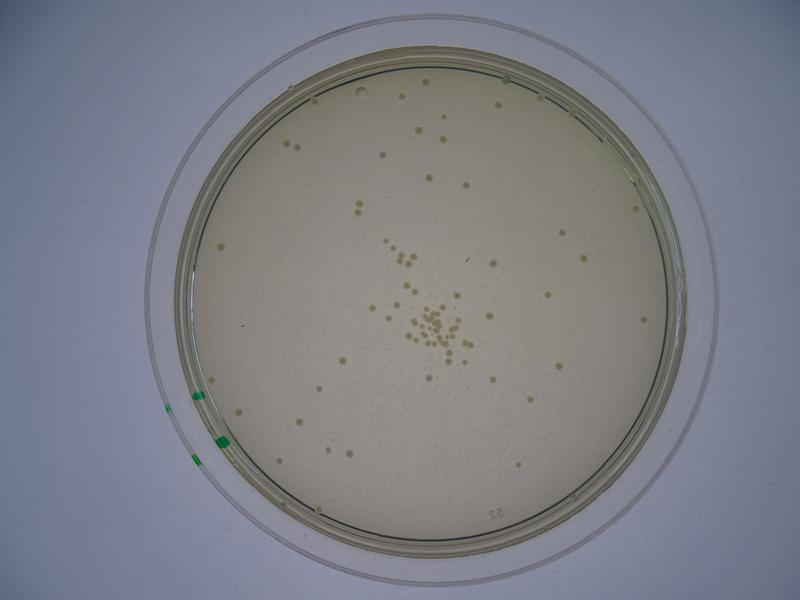colony: (554, 224, 569, 242), (213, 239, 227, 253), (543, 287, 554, 304), (487, 257, 499, 269), (553, 359, 564, 371), (578, 253, 588, 264)
